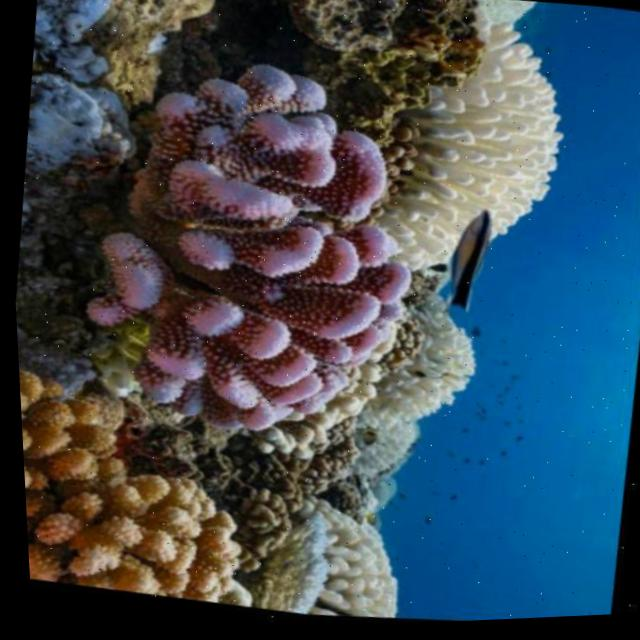Bleached Coral: (368, 17, 591, 304), (313, 308, 502, 623)
Healthy Coral: (70, 52, 409, 434), (15, 373, 222, 608)
